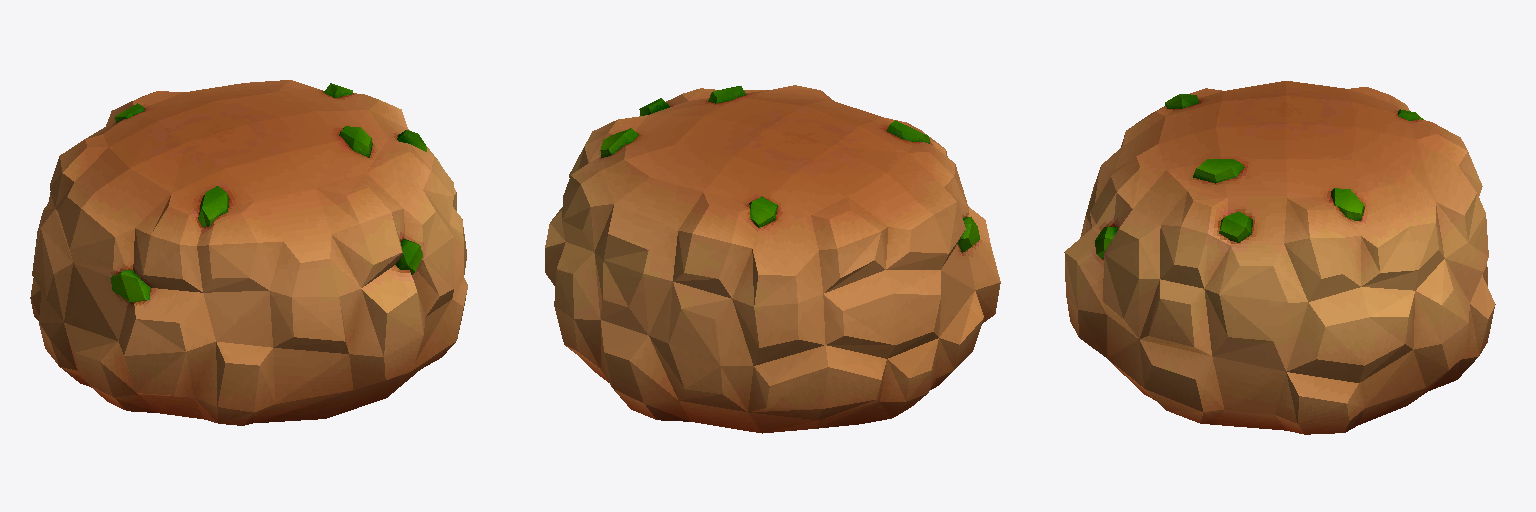
3 renders of one model, left to right at view 1: azimuth 30°, elevation 25°; view 2: azimuth 150°, elevation 25°; view 3: azimuth 270°, elevation 25°, orthographic.
Visible parts, largest first — view 1: Crabcake; view 2: Crabcake; view 3: Crabcake.
Part boxes in pixels (x1,y1,x2,y2): Crabcake: (30, 80, 467, 425); Crabcake: (545, 85, 1000, 433); Crabcake: (1064, 81, 1495, 434).
Size of the model in its own units: 0.1628 by 0.1085 by 0.1618.
1 materials, 1 textured.